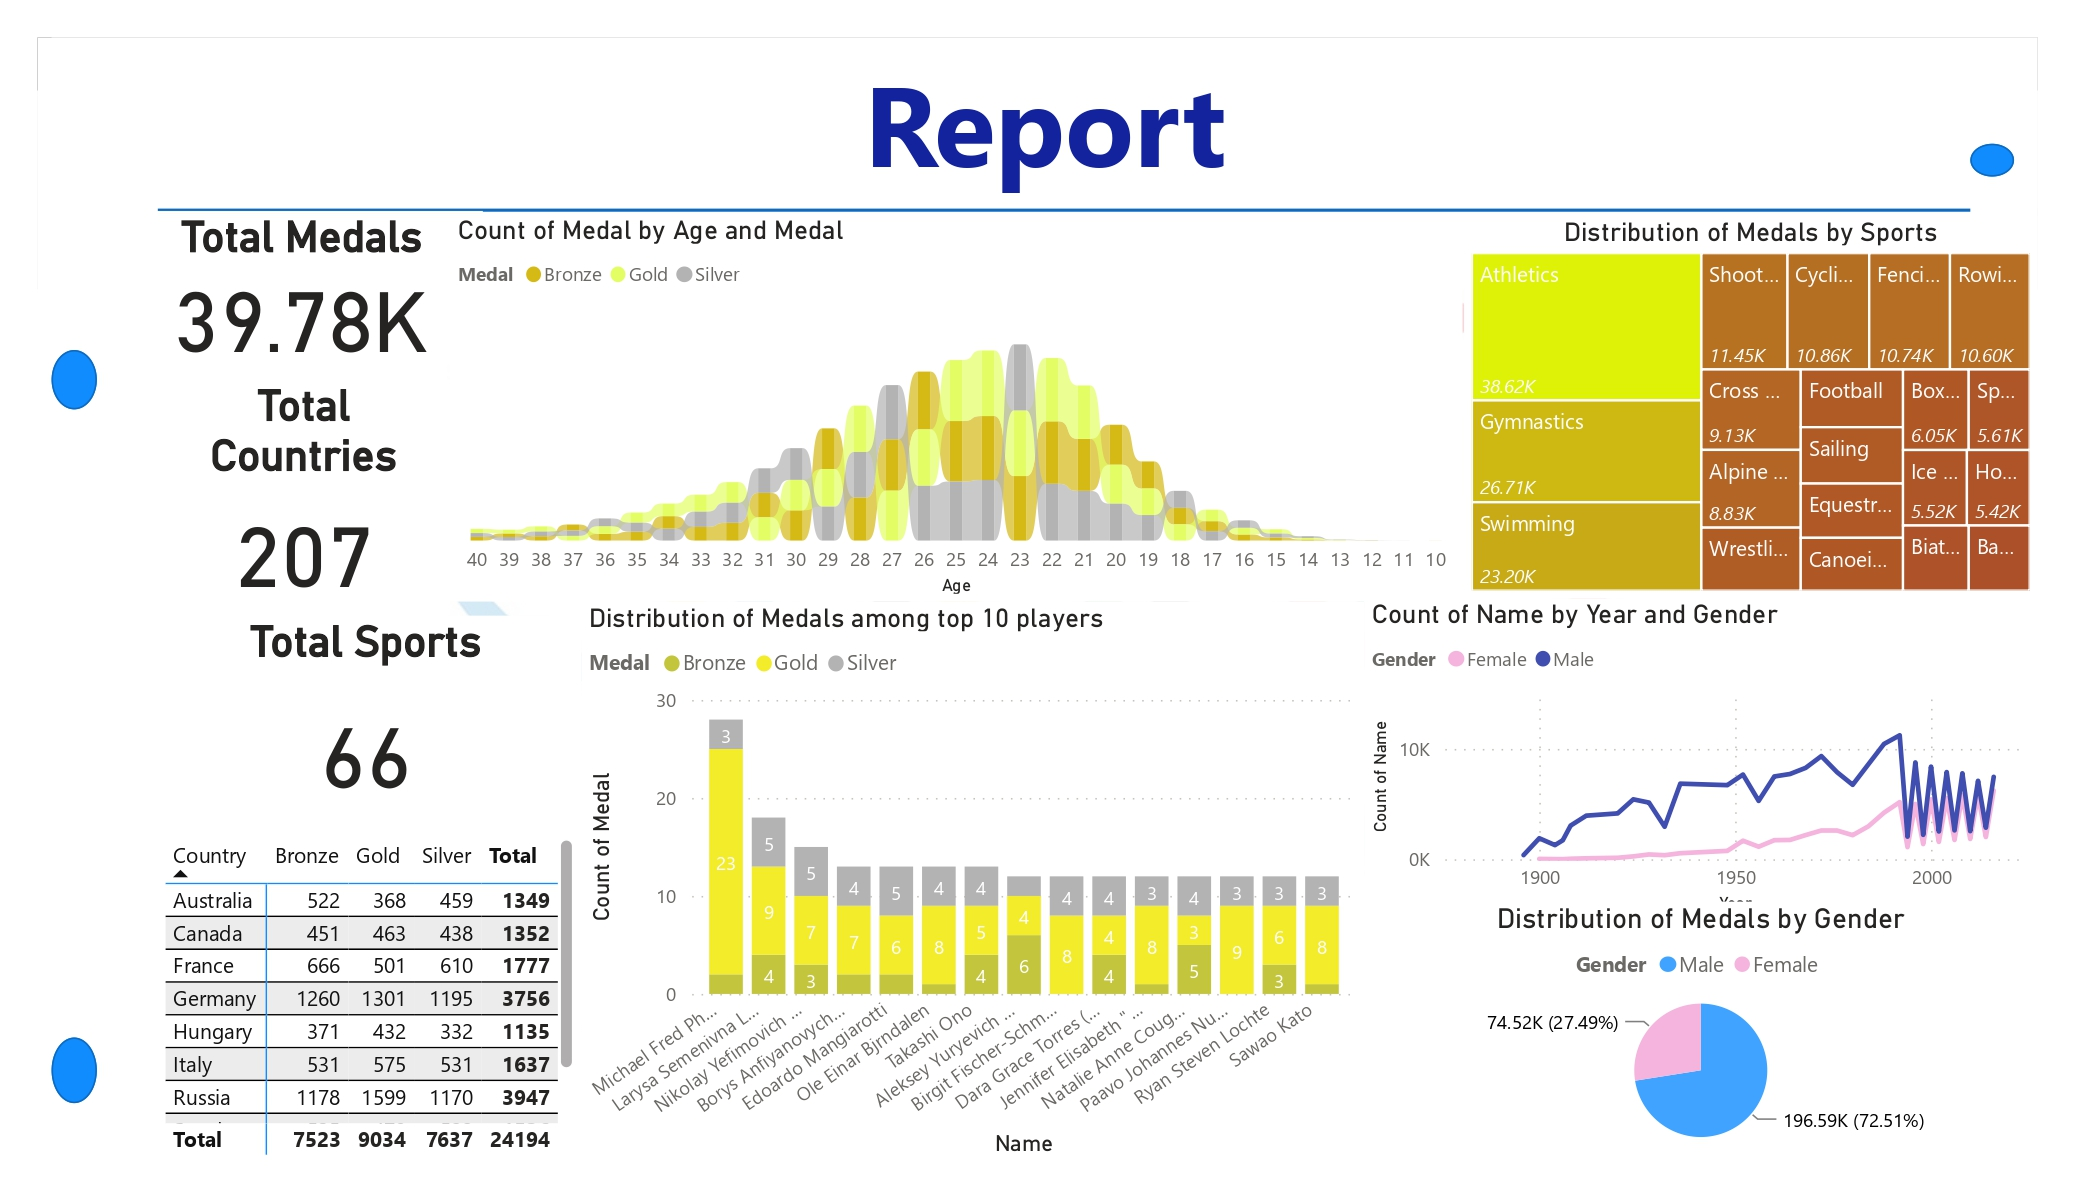

The dashboard page shown, as its layout file describes it:
{"tool":"powerbi","page":{"name":"Page 5","canvas":[1280,720],"ordinal":4},"visuals":[{"type":"textbox","box":[9.4,0,1270.6,109.5],"z":0},{"type":"shape","box":[77.4,0,1159.2,220.9],"z":1000},{"type":"shape","box":[1236.6,68,28.3,20.8],"z":2000},{"type":"shape","box":[1236.6,538.1,28.3,28.3],"z":3000},{"type":"shape","box":[9.4,200.1,28.3,37.8],"z":4000},{"type":"shape","box":[9.4,640,28.3,41.5],"z":5000},{"type":"card","title":"Total Medals","fields":{"Values":["CountNonNull(Olympics Final.Medal)"]},"box":[52.9,111.4,232.2,96.3],"z":6000},{"type":"card","title":"Total Countries","fields":{"Values":["Count(Olympics Final.Country)"]},"box":[77.4,219,186.9,151],"z":7000},{"type":"card","title":"Total Sports","fields":{"Values":["Count(Olympics Final.Sport)"]},"box":[71.8,370.2,276.3,138.1],"z":8000},{"type":"pivotTable","fields":{"Rows":["Olympics Final.Country"],"Columns":["Olympics Final.Medal"],"Values":["CountNonNull(Olympics Final.Medal)"]},"box":[77.4,508.3,270.7,211.8],"z":9000},{"type":"ribbonChart","fields":{"Category":["Olympics Final.Age"],"Y":["CountNonNull(Olympics Final.Medal)"],"Series":["Olympics Final.Medal"]},"box":[264.3,113.3,647.6,247.3],"z":9001},{"type":"columnChart","title":"Distribution of Medals among top 10 players","fields":{"Category":["Olympics Final.Name"],"Y":["CountNonNull(Olympics Final.Medal)"],"Series":["Olympics Final.Medal"]},"box":[348.1,361,500.9,359.1],"z":9002},{"type":"treemap","title":"Distribution of Medals by Sports","fields":{"Group":["Olympics Final.Sport"],"Values":["CountNonNull(Olympics Final.Medal)"]},"box":[913.5,114.2,366.5,244.9],"z":9003},{"type":"lineChart","fields":{"Category":["Olympics Final.Year"],"Y":["CountNonNull(Olympics Final.Name)"],"Series":["Olympics Final.Gender"]},"box":[849,359.1,431,206.3],"z":9004},{"type":"pieChart","title":"Distribution of Medals by Gender","fields":{"Category":["Olympics Final.Gender"],"Y":["CountNonNull(Olympics Final.Medal)"]},"box":[849,552.5,431,167.6],"z":9005}]}

Visuals, with their boxes on the page's 1280x720 design canvas (x1, y1, x2, y2). These are canvas units, not pixel positions in the 2075x1200 screenshot, which may show the page scaled, cropped or inside an application window:
textbox: [9,0,1280,110]
shape: [77,0,1237,221]
shape: [1237,68,1265,89]
shape: [1237,538,1265,566]
shape: [9,200,38,238]
shape: [9,640,38,682]
"Total Medals" card: [53,111,285,208]
"Total Countries" card: [77,219,264,370]
"Total Sports" card: [72,370,348,508]
pivotTable - Olympics Final.Country x Olympics Final.Medal: [77,508,348,720]
ribbonChart - Olympics Final.Age x CountNonNull(Olympics Final.Medal): [264,113,912,361]
"Distribution of Medals among top 10 players" columnChart: [348,361,849,720]
"Distribution of Medals by Sports" treemap: [914,114,1280,359]
lineChart - Olympics Final.Year x CountNonNull(Olympics Final.Name): [849,359,1280,565]
"Distribution of Medals by Gender" pieChart: [849,552,1280,720]
